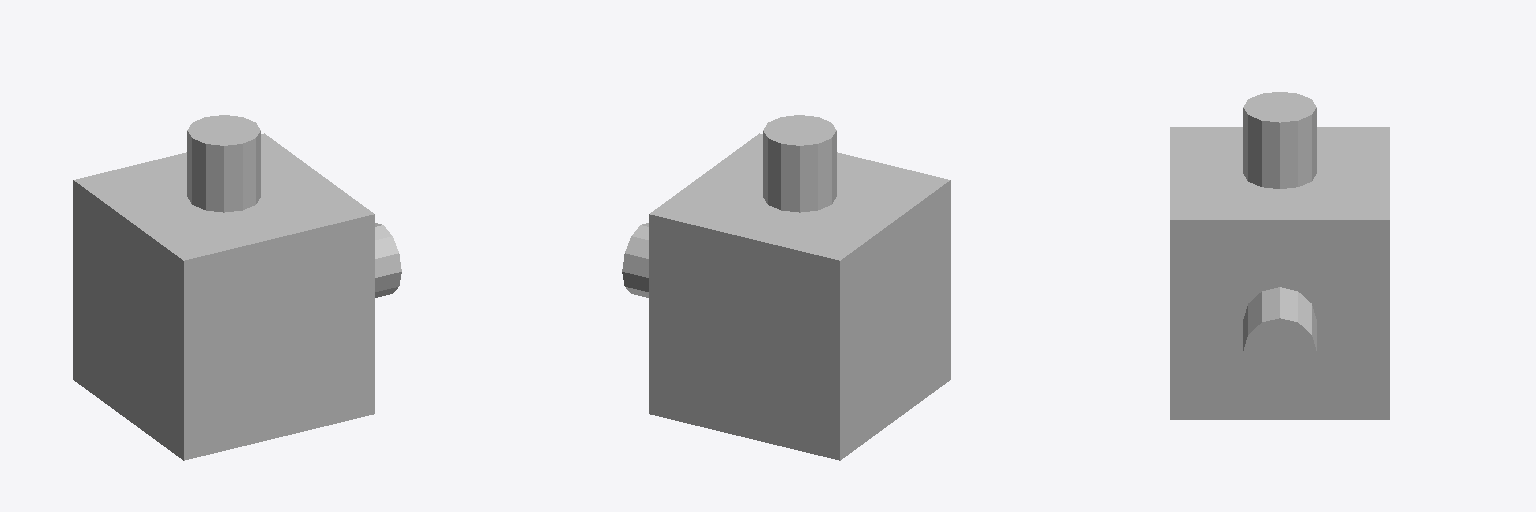
File: block_gear_bevel_1.obj
3 renders of one model, left to right at view 1: azimuth 30°, elevation 25°; view 2: azimuth 150°, elevation 25°; view 3: azimuth 270°, elevation 25°, orthographic.
Parts seen in each view (by area): view 1: Cube; view 2: Cube; view 3: Cube.
Part boxes in pixels (left/top/right/bottom): Cube: left=73, top=115, right=401, bottom=460; Cube: left=622, top=115, right=950, bottom=460; Cube: left=1170, top=92, right=1389, bottom=419.
Size of the model in its own units: 0.4 by 0.4 by 0.3.